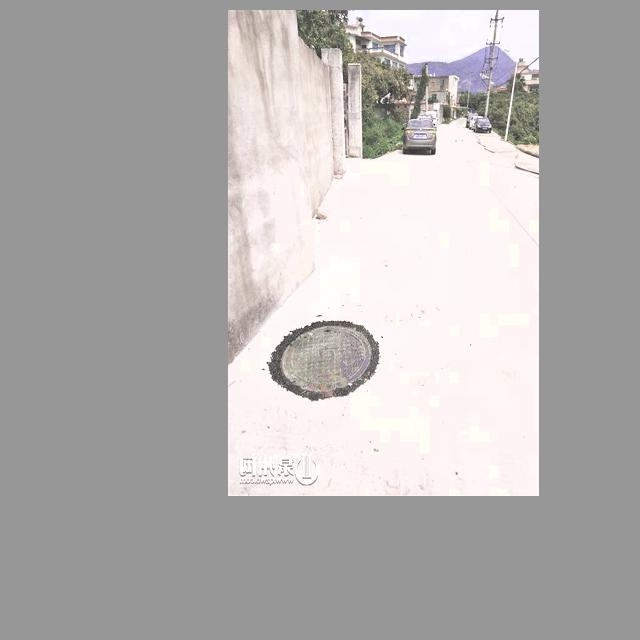good: (254, 308, 396, 409)
